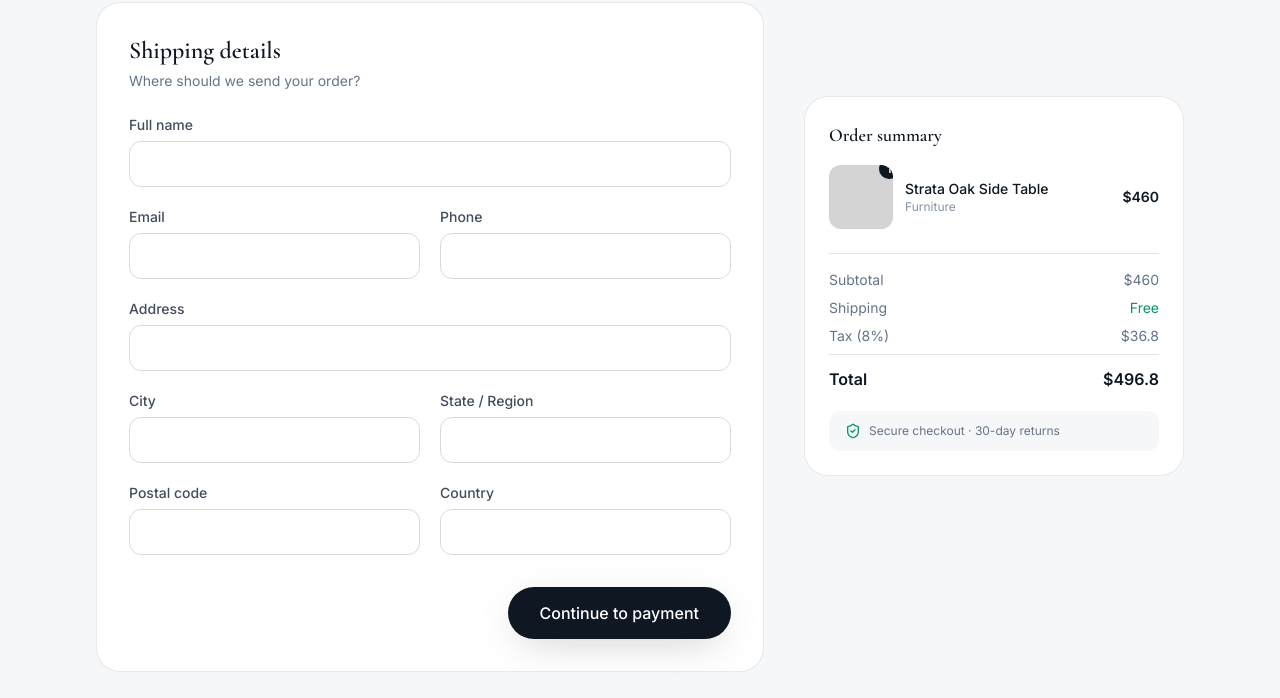
Multi-step checkout wizard › blocks progression past shipping until required fields are valid
(page scrolled)
// Submitting the empty shipping form surfaces validation and stays on step 1.
Step 1. Click the button "Continue to payment" → (619, 613), box [508,587,731,639]
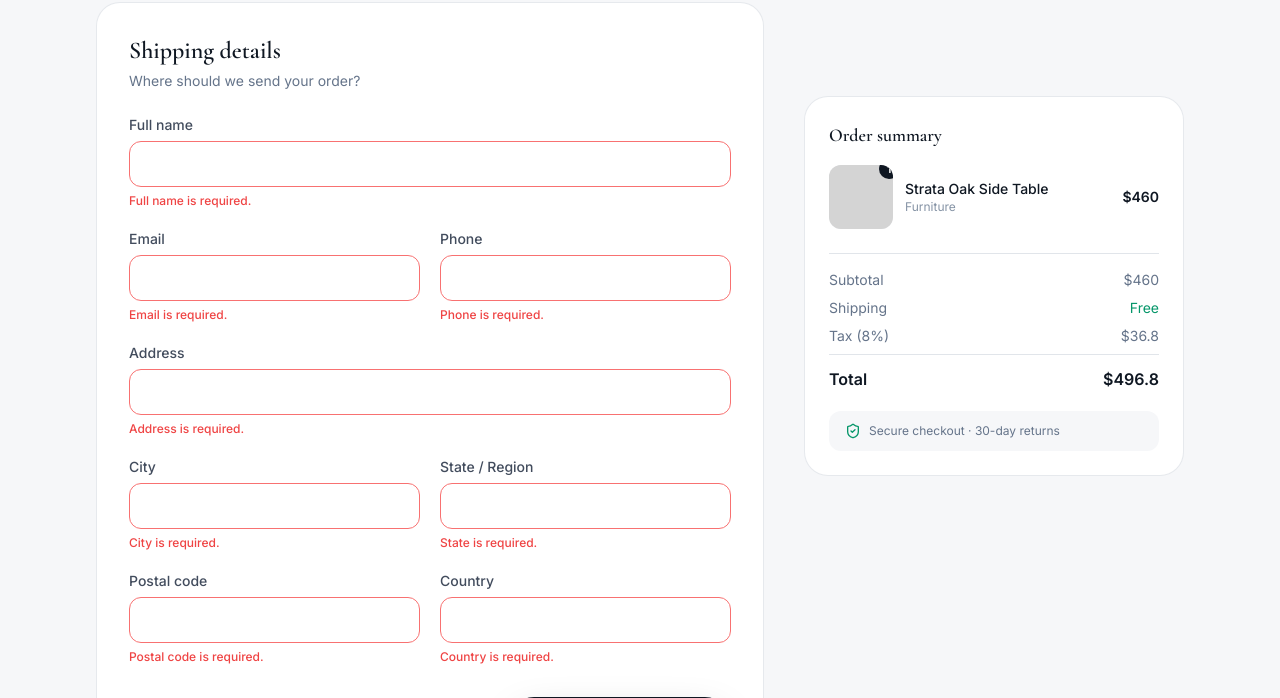
Expected: the heading "Shipping details" is shown, [129,36,281,65]
Expected: the text "Full name is required." is shown, [129,193,251,208]
